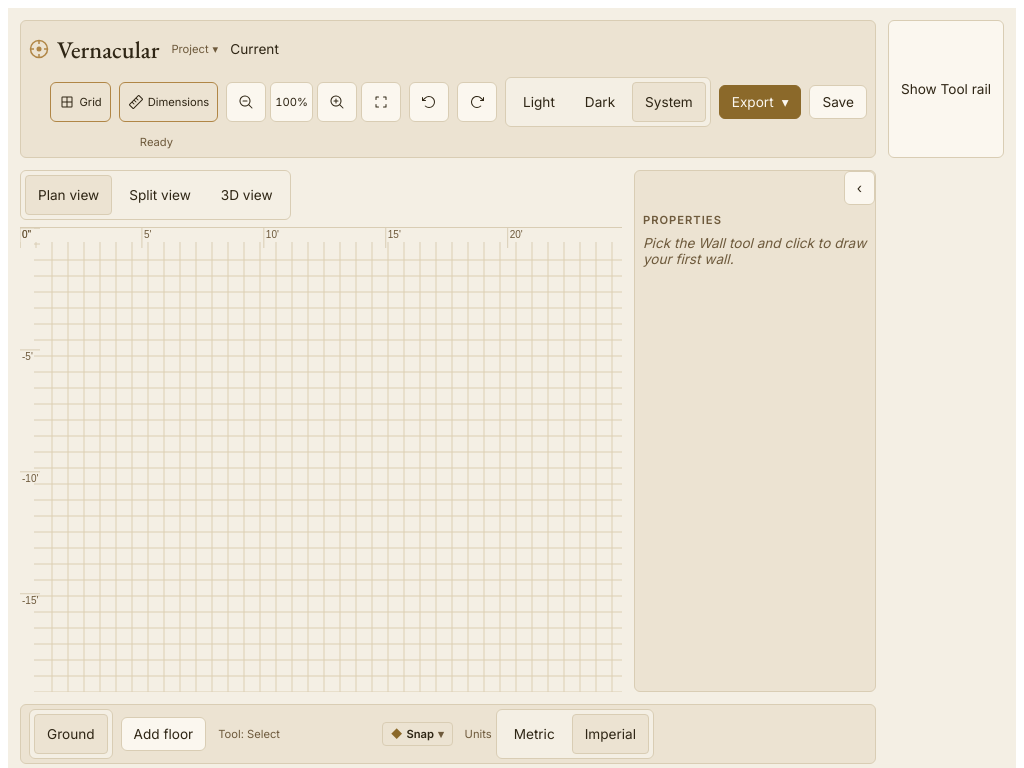
Test: App project actions › lists a recent project and opens it into the session when clicked
Expected: the heading "Vernacular" is shown, [57,34,159,64]
What coordinates should you click on to do the following:
click the button "Project ▾"
I would click on:
 (195, 49)
Its box is [167,29,222,69].
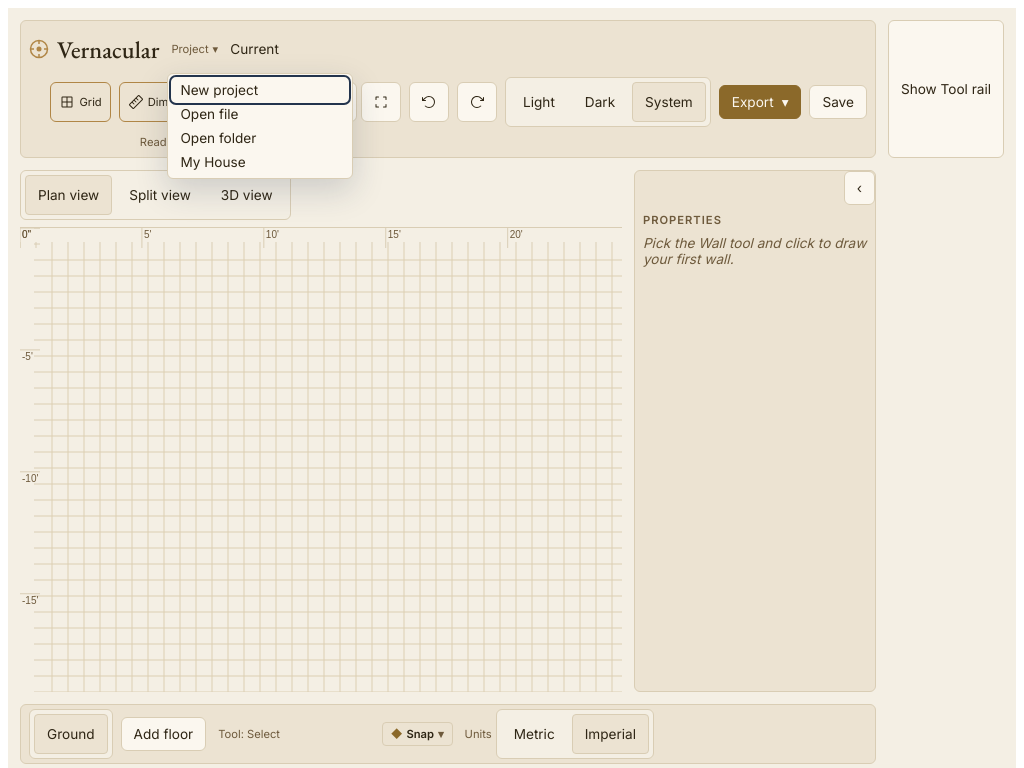
What coordinates should you click on to do the following:
click the menu item "My House"
I would click on:
 (260, 162)
Its box is [172,150,348,174].
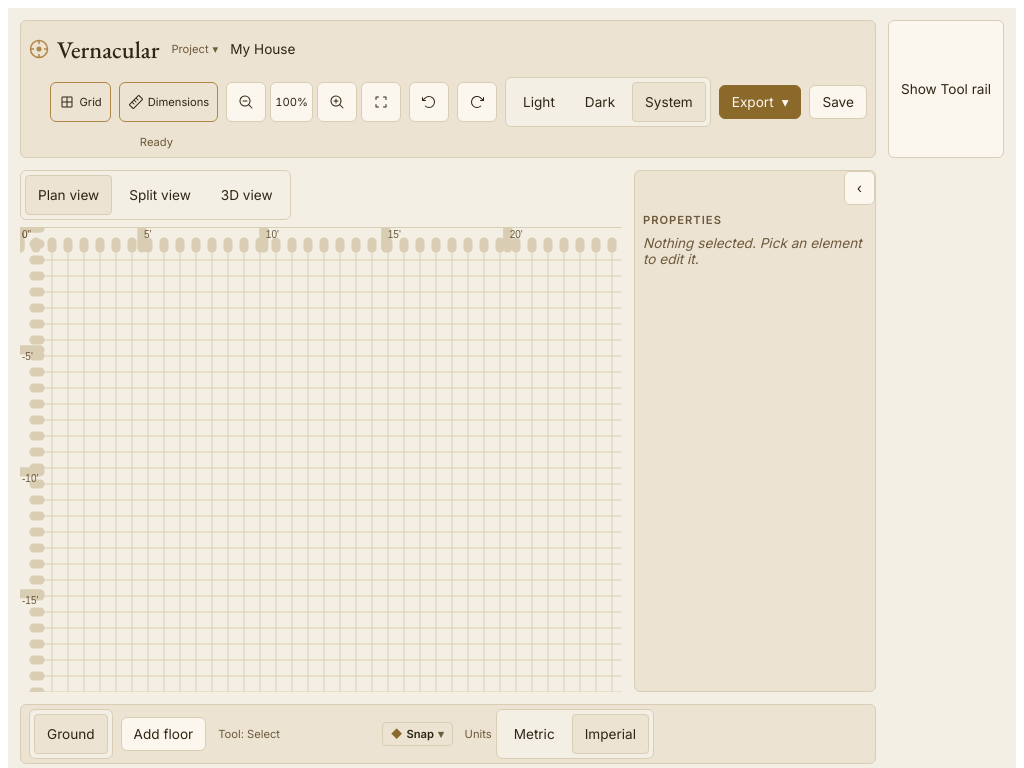
Now the text "My House" is shown, box [230,41,295,57]
